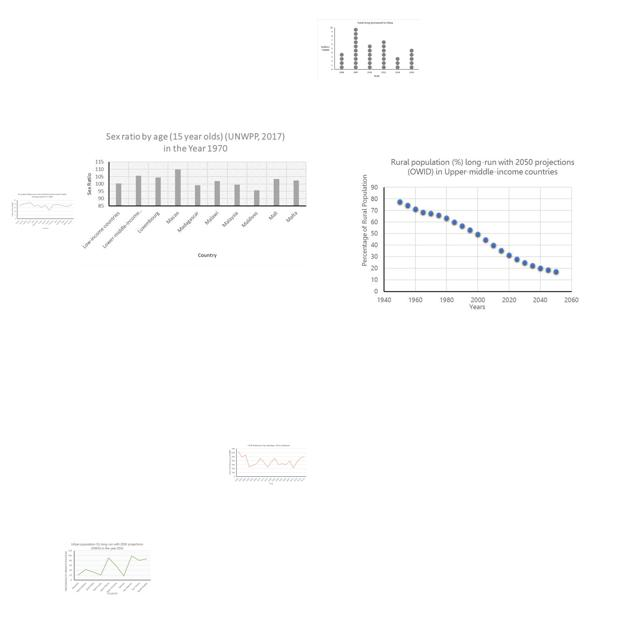Graph: (356, 155, 588, 315), (79, 127, 309, 266), (317, 19, 421, 80), (63, 542, 152, 595), (228, 442, 307, 486), (10, 192, 75, 230)
